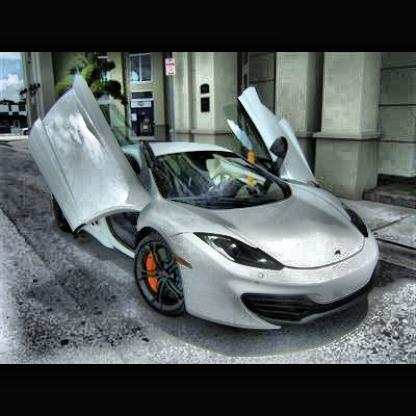McLaren MP4-12C Coupe 2012: (29, 70, 382, 334)
